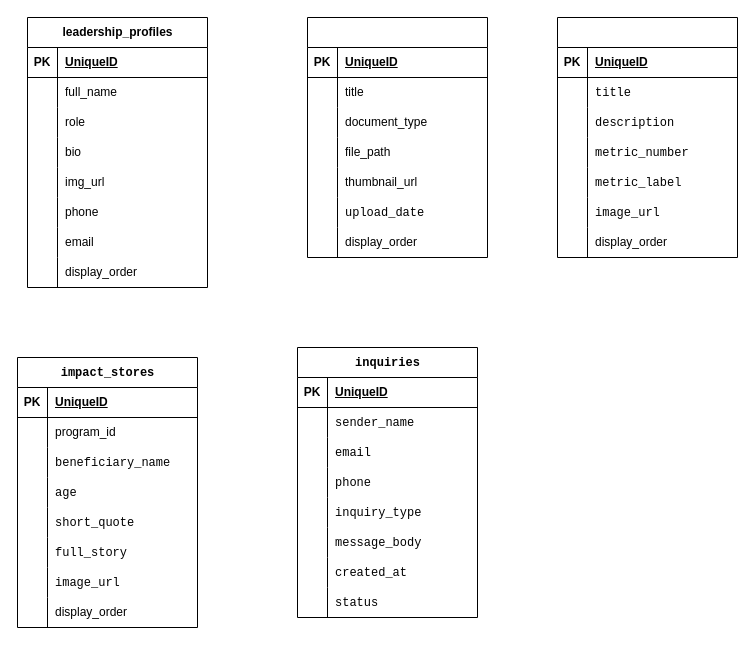
Image size: 755x645. Some labels were removed from this diagram. The shapes that lost their labels are listed below. From the top down, each one's box as (x1, y1, x2, y2) in pixels, then its label:
(306, 16, 488, 258): resource_documents
(556, 16, 738, 258): programs
